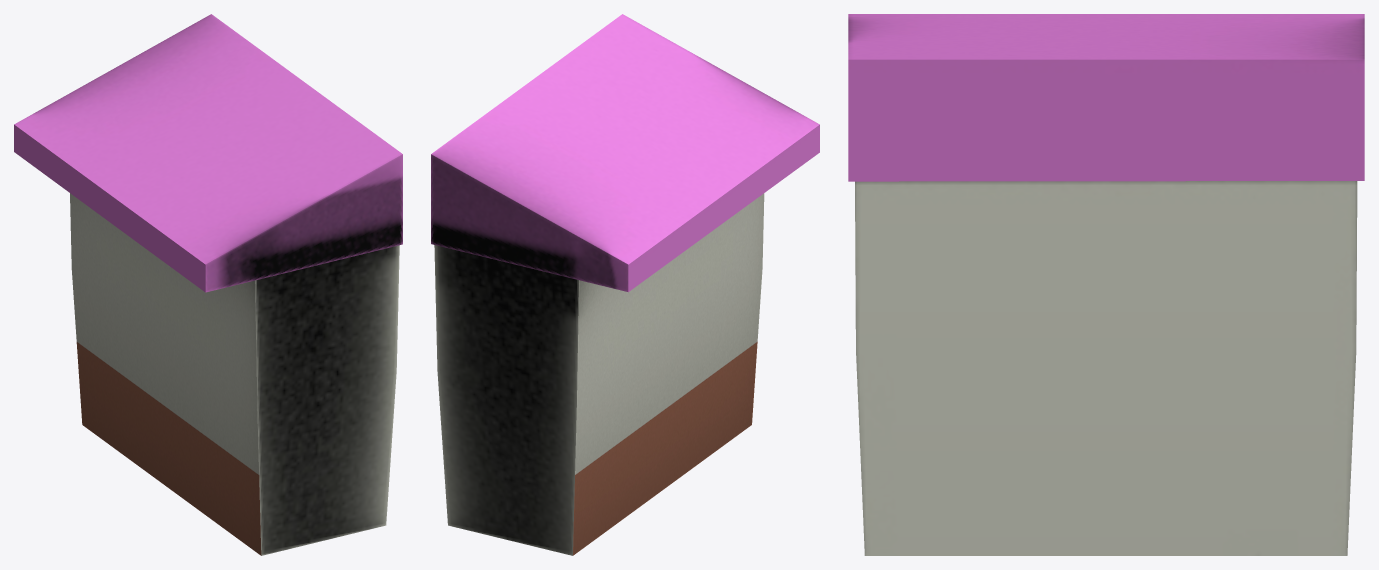
The model's file is FS_PurpleStore.fbx.
The picture shows the model from 3 angles, left to right: view 1: azimuth 30°, elevation 25°; view 2: azimuth 150°, elevation 25°; view 3: azimuth 270°, elevation 25°; orthographic projection. The views are drawn at different scales.
Visible parts, largest first — view 1: shop6, roof6; view 2: shop6, roof6; view 3: shop6, roof6.
Boxes of the visible parts, bbox=[...] form: shop6: bbox=[70, 193, 399, 555]; roof6: bbox=[14, 14, 402, 292]; shop6: bbox=[434, 193, 764, 555]; roof6: bbox=[431, 14, 819, 292]; shop6: bbox=[855, 181, 1357, 555]; roof6: bbox=[848, 14, 1364, 181].
Size of the model in its own units: 74.4 by 134 by 125.
Materials: 1 (1 with a texture image).
